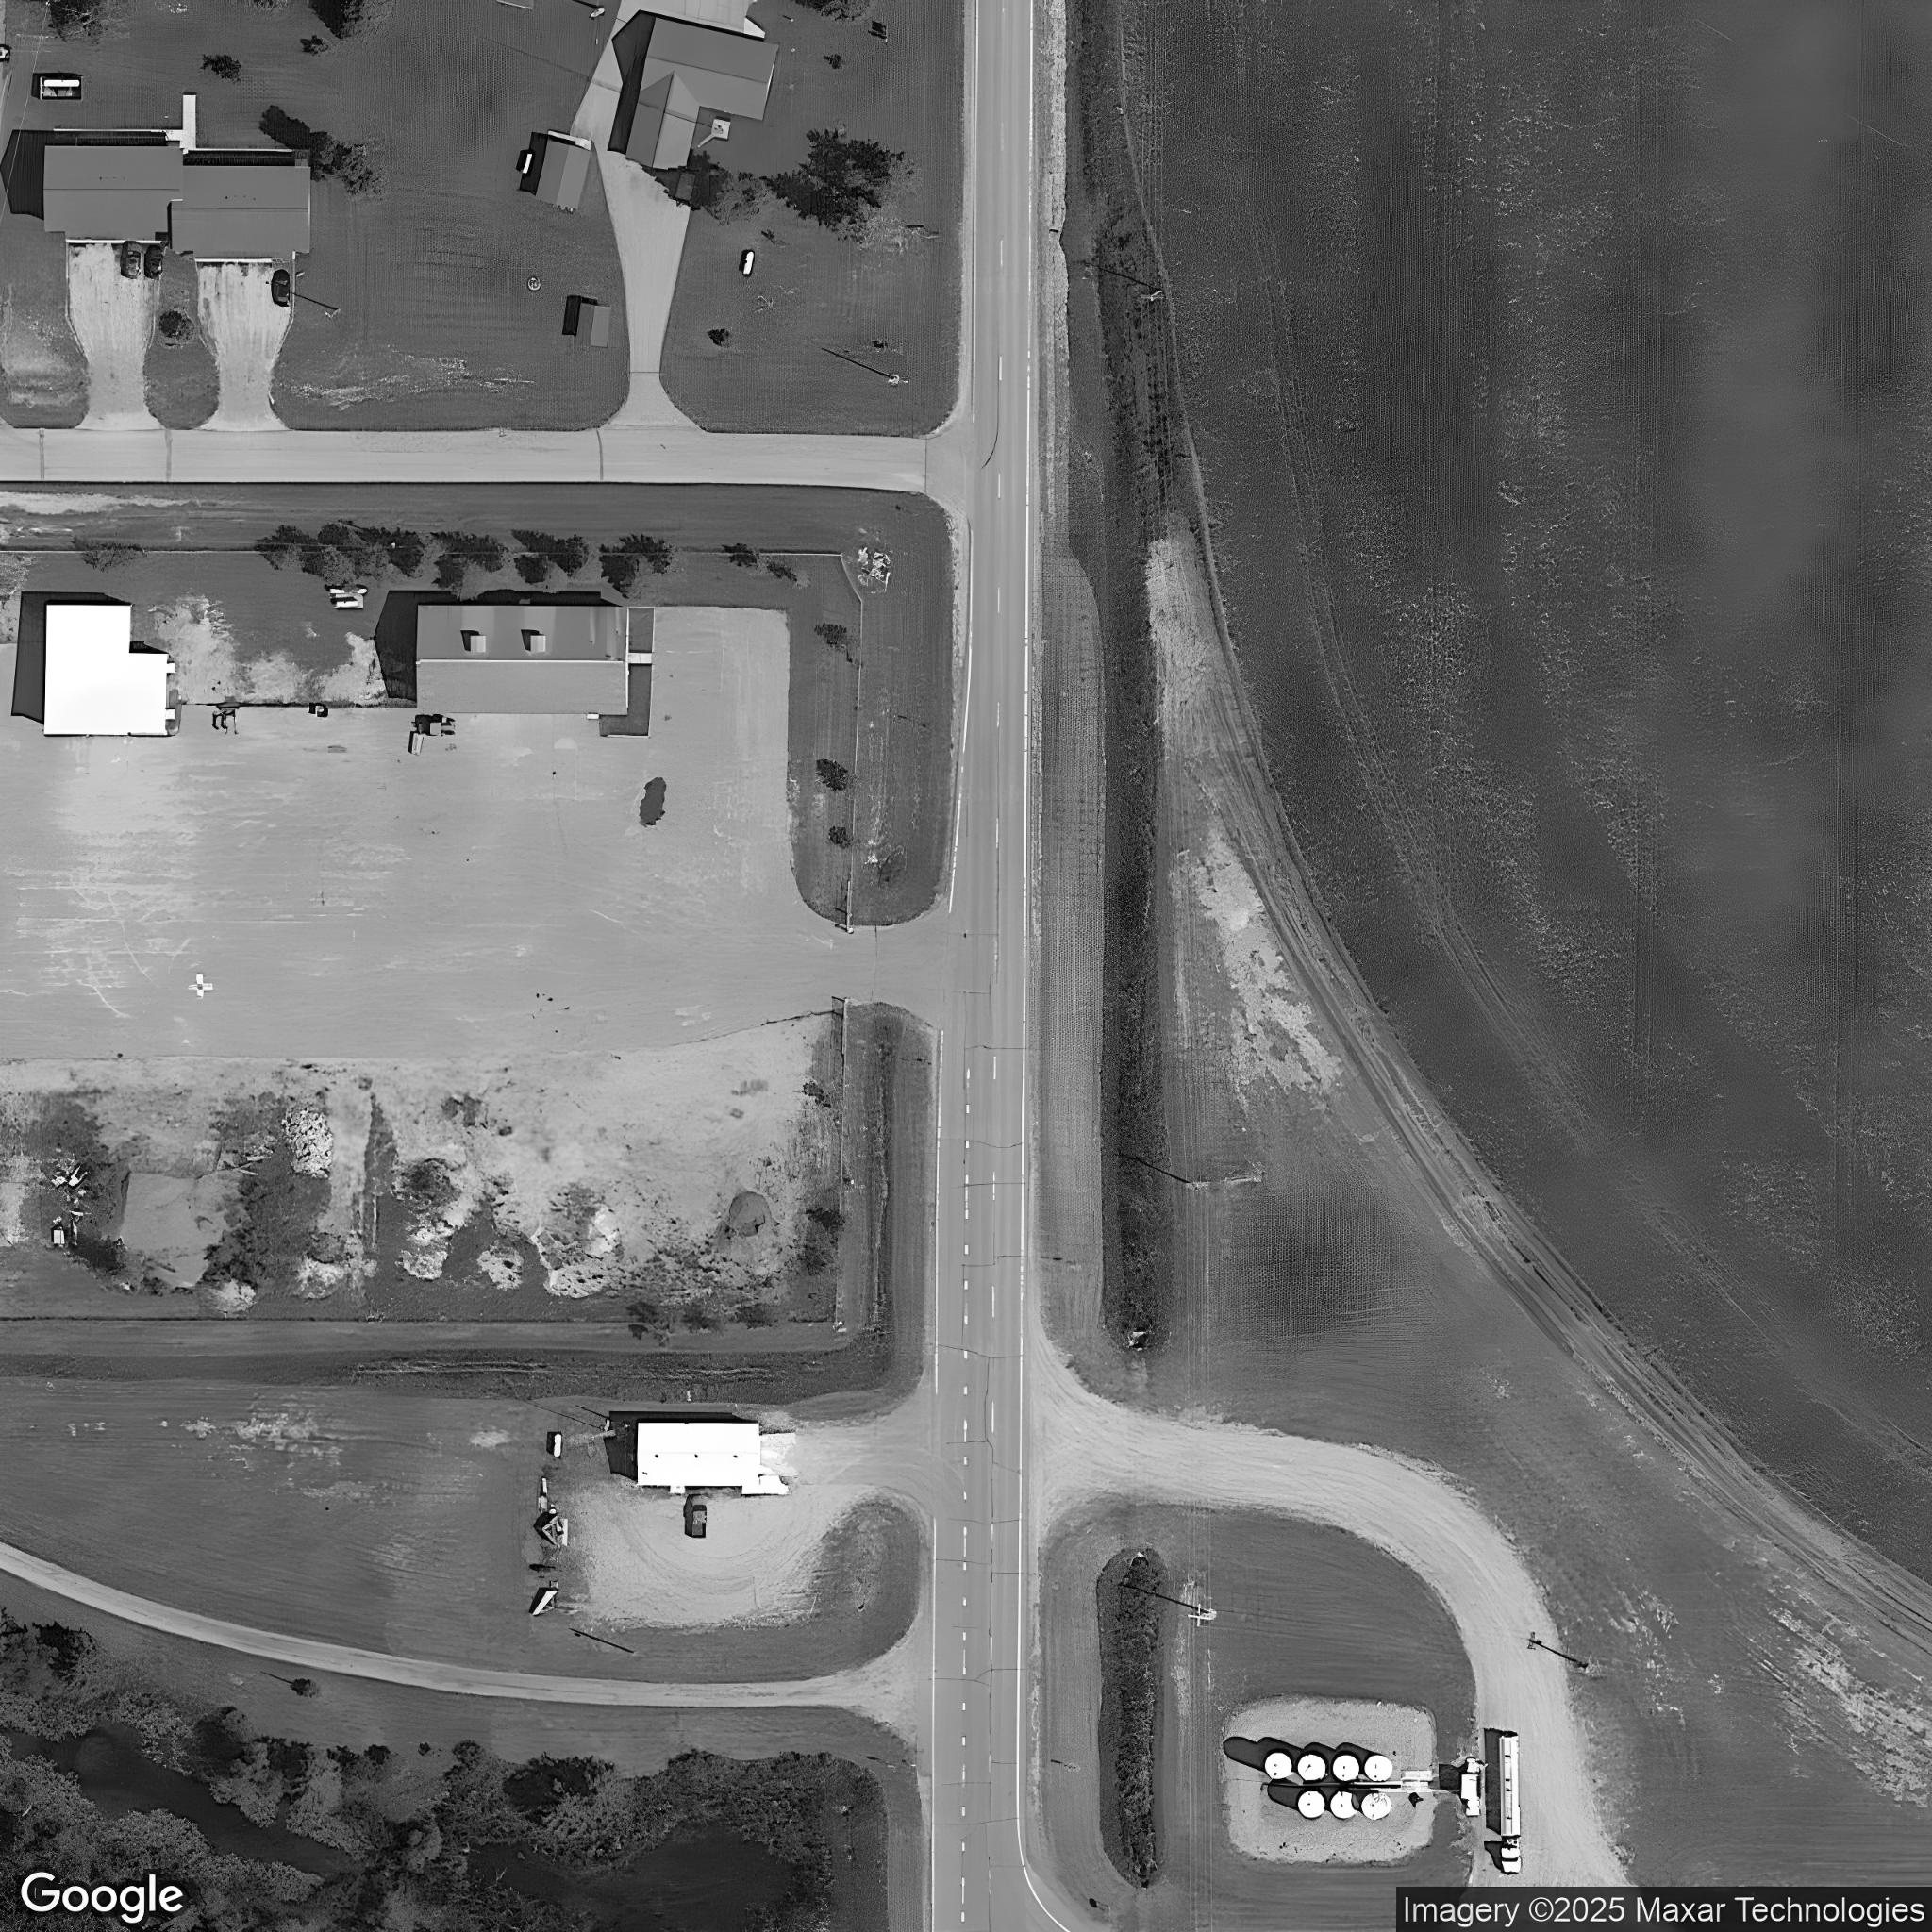Garage: (534, 140, 593, 211), (577, 303, 610, 347)
House: (44, 145, 311, 253), (416, 605, 630, 715), (625, 16, 778, 168)
Other: (42, 605, 177, 736), (637, 1422, 764, 1497)
Propane: (42, 73, 85, 92), (740, 246, 761, 280), (517, 147, 538, 179), (550, 1428, 568, 1461), (329, 584, 370, 598), (333, 596, 363, 612)
